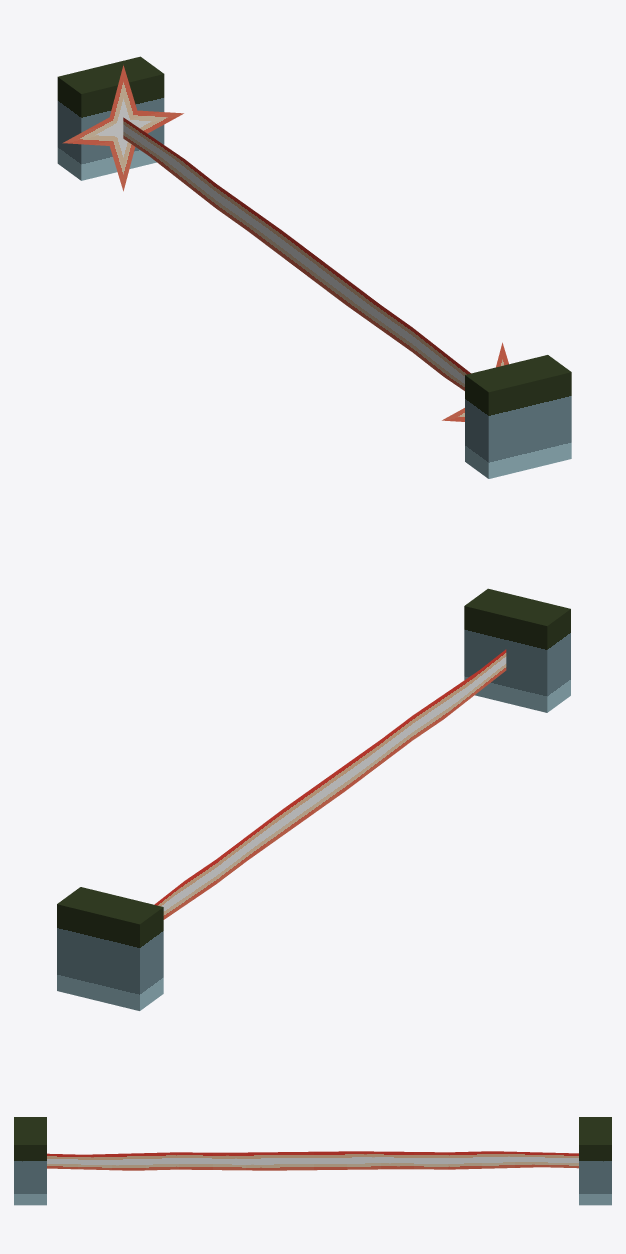
The model's file is DECO_MOVING_LASER.glb.
The picture shows the model from 3 angles, top to bottom: view 1: azimuth 30°, elevation 25°; view 2: azimuth 150°, elevation 25°; view 3: azimuth 270°, elevation 25°; orthographic projection. The views are drawn at different scales.
Visible parts, largest first — view 1: DECO_MOVING_LASER; view 2: DECO_MOVING_LASER; view 3: DECO_MOVING_LASER.
Boxes of the visible parts, x1=… form: DECO_MOVING_LASER: x1=57, y1=56, x2=571, y2=478; DECO_MOVING_LASER: x1=57, y1=588, x2=570, y2=1010; DECO_MOVING_LASER: x1=14, y1=1117, x2=611, y2=1205.
Bounding box in the file's own units: 0.9362 × 0.9299 × 3.19.
2 materials, 2 textured.
